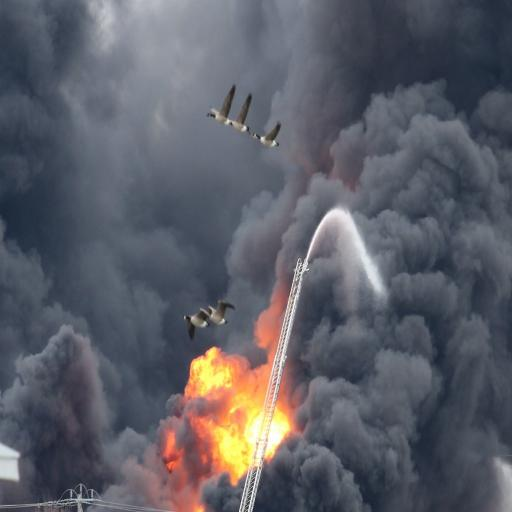fire: (161, 290, 286, 510), (184, 347, 267, 481), (185, 347, 256, 480), (185, 347, 247, 399), (255, 284, 287, 364), (266, 409, 290, 458), (163, 431, 182, 471), (196, 504, 204, 511)
smoke: (0, 0, 511, 511)
